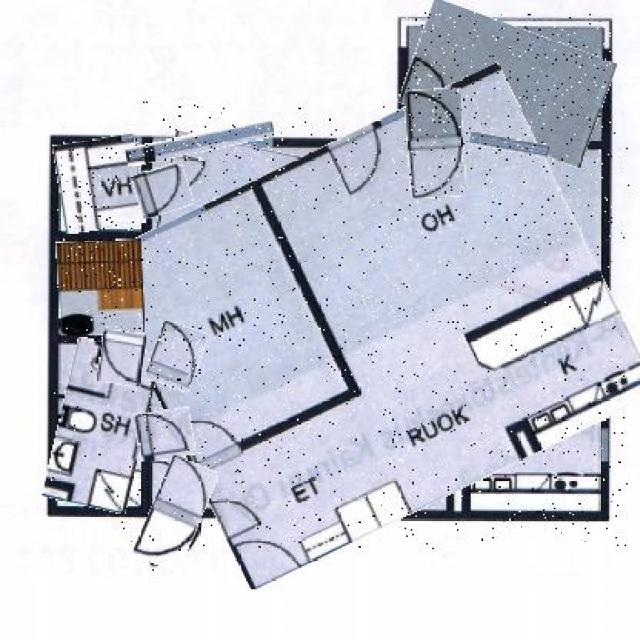door: (142, 458, 209, 571), (406, 88, 465, 198), (149, 323, 205, 391), (134, 164, 192, 216), (135, 409, 194, 460), (99, 332, 144, 385)
window: (124, 126, 274, 160), (469, 135, 549, 154)
zone: (120, 102, 629, 549), (141, 138, 334, 378), (403, 12, 611, 154), (51, 340, 151, 511), (57, 238, 145, 336), (55, 137, 143, 232)
